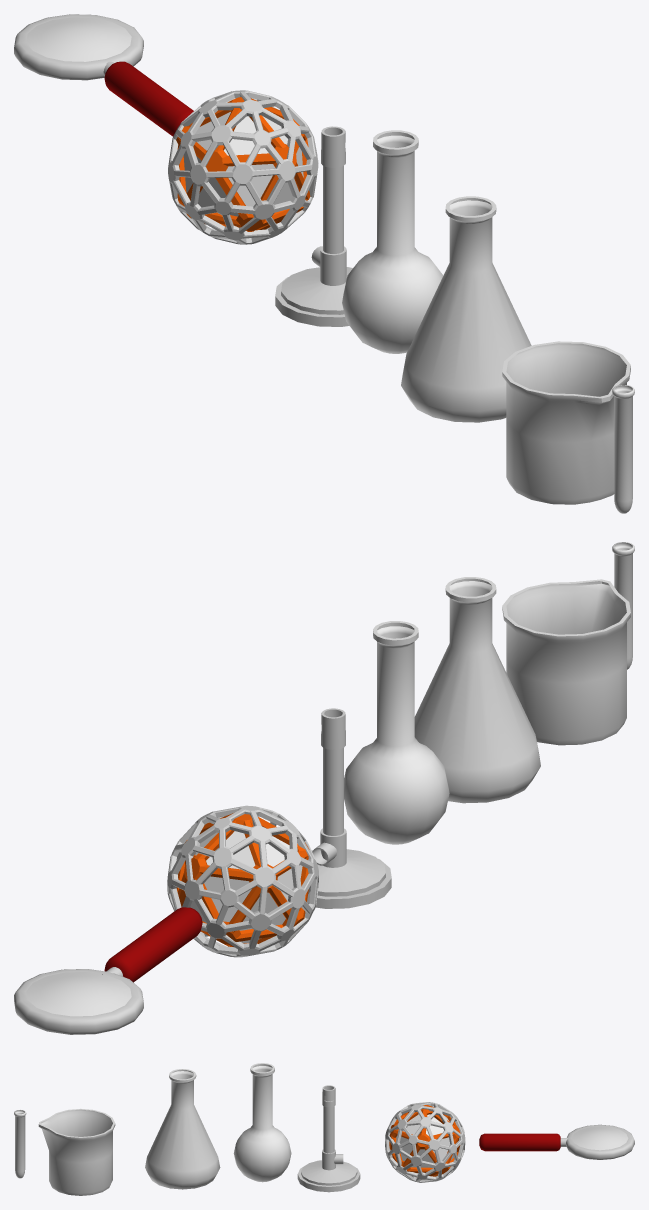
Rendered from MainProps.fbx.
3 views of the same model, one above another, from view 1: azimuth 30°, elevation 25°; view 2: azimuth 150°, elevation 25°; view 3: azimuth 270°, elevation 25° (orthographic). The views are drawn at different scales.
Parts seen in each view (by area): view 1: CylinderFlask, ConicalFlast, Outer, Sphericalflask, MagnifyingGlass, BunsenBurner, Inner, TestTube; view 2: CylinderFlask, ConicalFlast, Sphericalflask, Outer, MagnifyingGlass, BunsenBurner, Inner, TestTube; view 3: ConicalFlast, CylinderFlask, Sphericalflask, Outer, MagnifyingGlass, BunsenBurner, Inner, TestTube.
Part boxes in pixels (bbox=[...]): CylinderFlask: bbox=[502, 341, 630, 504]; ConicalFlast: bbox=[401, 196, 531, 422]; Outer: bbox=[168, 90, 318, 244]; Sphericalflask: bbox=[342, 130, 443, 353]; MagnifyingGlass: bbox=[14, 14, 193, 136]; BunsenBurner: bbox=[275, 126, 352, 326]; Inner: bbox=[176, 97, 310, 231]; TestTube: bbox=[612, 385, 634, 513]; CylinderFlask: bbox=[502, 579, 630, 745]; ConicalFlast: bbox=[414, 577, 540, 803]; Sphericalflask: bbox=[344, 621, 449, 844]; Outer: bbox=[167, 805, 318, 957]; MagnifyingGlass: bbox=[14, 907, 202, 1034]; BunsenBurner: bbox=[311, 708, 391, 908]; Inner: bbox=[176, 813, 309, 947]; TestTube: bbox=[612, 542, 634, 669]; ConicalFlast: bbox=[145, 1069, 220, 1189]; CylinderFlask: bbox=[38, 1108, 115, 1195]; Sphericalflask: bbox=[233, 1063, 291, 1182]; Outer: bbox=[385, 1102, 465, 1182]; MagnifyingGlass: bbox=[479, 1124, 634, 1159]; BunsenBurner: bbox=[297, 1085, 360, 1192]; Inner: bbox=[389, 1105, 460, 1176]; TestTube: bbox=[14, 1110, 26, 1178].
Bounding box in the file's own units: 66.82 × 106 × 512.
